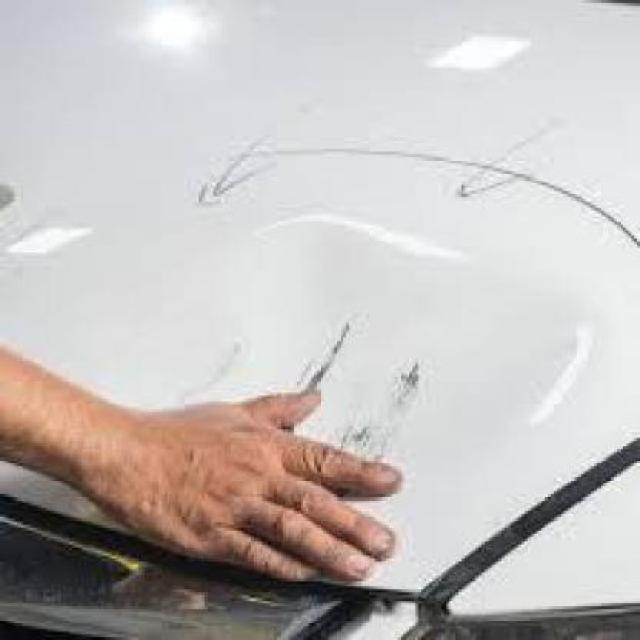scratch: (204, 115, 640, 255), (213, 309, 428, 458)
